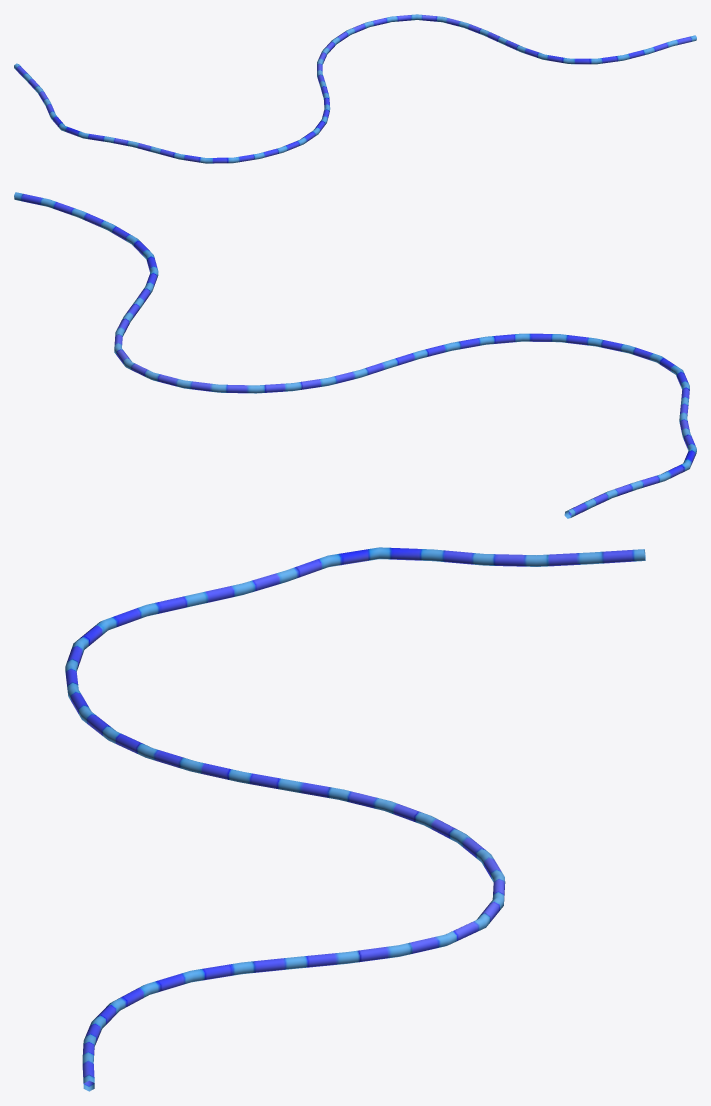
File: cable.fbx
3 renders of one model, top to bottom at view 1: azimuth 30°, elevation 25°; view 2: azimuth 150°, elevation 25°; view 3: azimuth 270°, elevation 25°, orthographic. The views are drawn at different scales.
Parts seen in each view (by area): view 1: Circle.001; view 2: Circle.001; view 3: Circle.001.
Part boxes in pixels (x1,y1,x2,y2): Circle.001: (14, 14, 696, 163); Circle.001: (14, 192, 696, 518); Circle.001: (65, 547, 645, 1091).
Size of the model in its own units: 9.35 by 0.2402 by 4.18.
